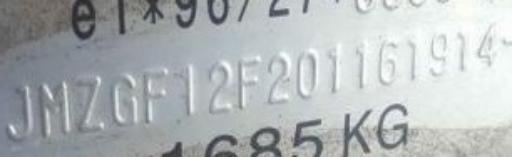letter: (36, 76, 76, 141), (201, 54, 239, 119), (137, 61, 173, 126), (105, 68, 143, 129), (232, 51, 268, 112), (290, 43, 324, 106), (262, 46, 296, 109), (4, 78, 36, 143), (74, 71, 106, 134), (374, 33, 404, 90), (472, 18, 502, 74), (426, 28, 454, 83), (323, 38, 351, 93), (350, 37, 376, 94), (401, 30, 427, 85), (178, 60, 200, 121), (452, 23, 474, 78)
